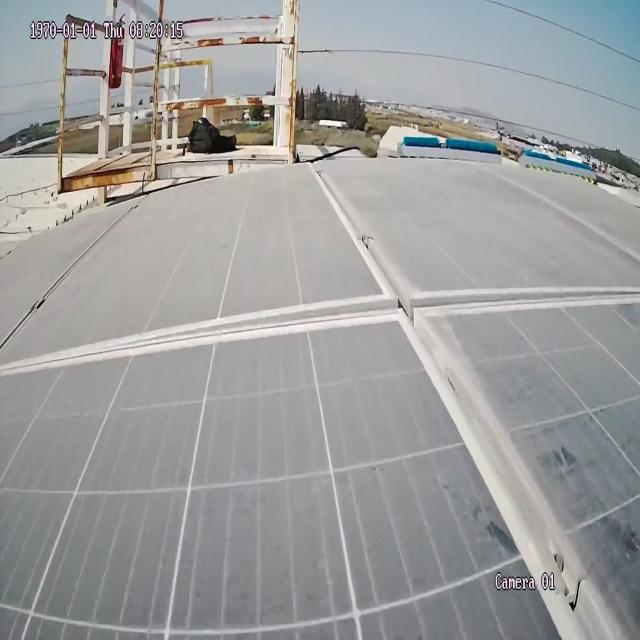interior panel: (0, 160, 640, 640)
